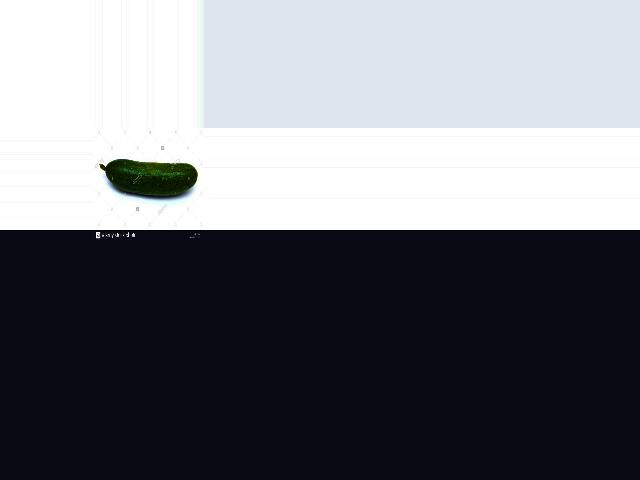cucumber: (99, 159, 198, 196)
